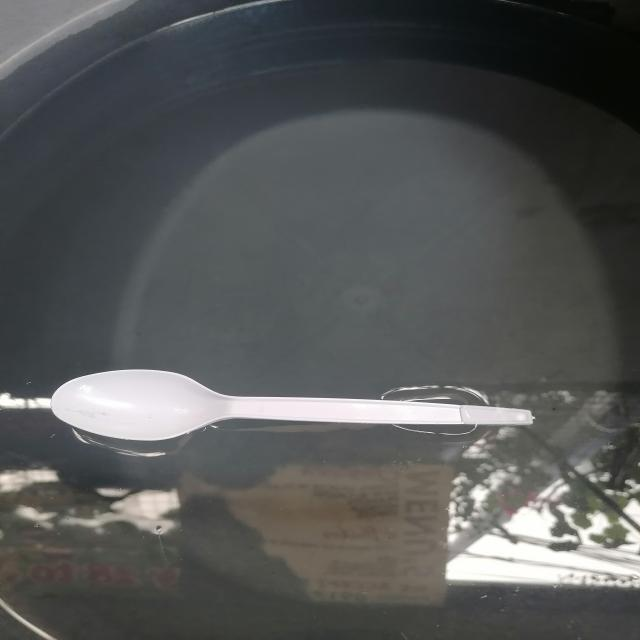Plastic Spoon: (51, 370, 534, 457)
